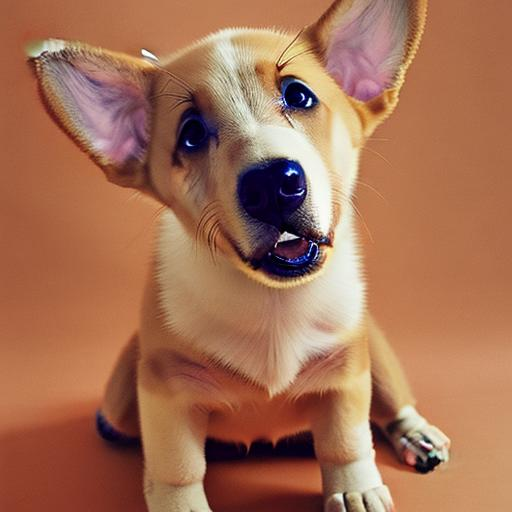eye: (275, 71, 324, 120), (171, 112, 219, 154)
